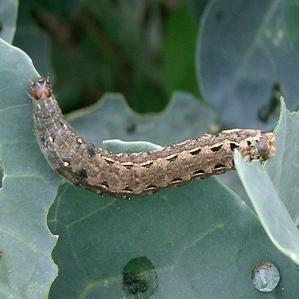Tobacco cutworm: (10, 54, 285, 218)
